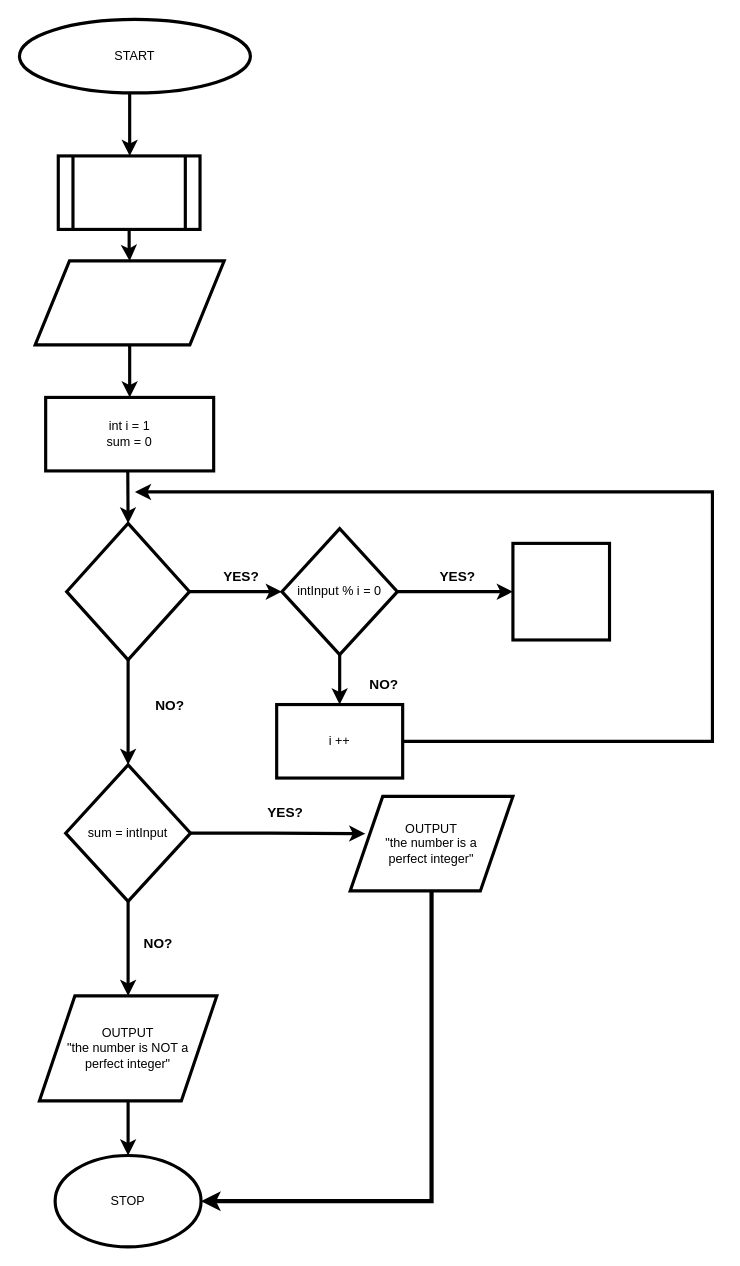
Some shapes in this 740 by 1266 pixel diagram are drawn without their labels. The centre of each missing label's shape, as x and y in pixels:
"i < intInput" belongs at point 128,591.
"INPUT intInput" belongs at point 129,302.
"IsPerfect(intInput)" belongs at point 128,192.
"sum += i i += 1" belongs at point 561,591.
